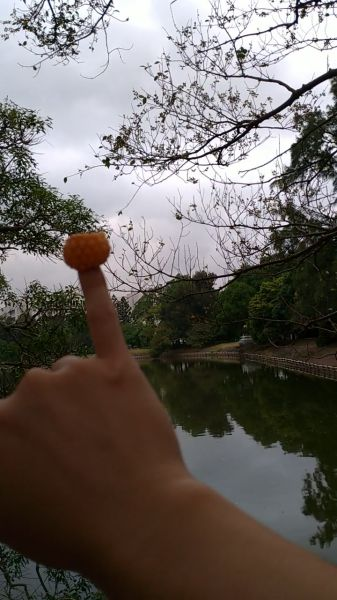eggs: (63, 232, 112, 270)
